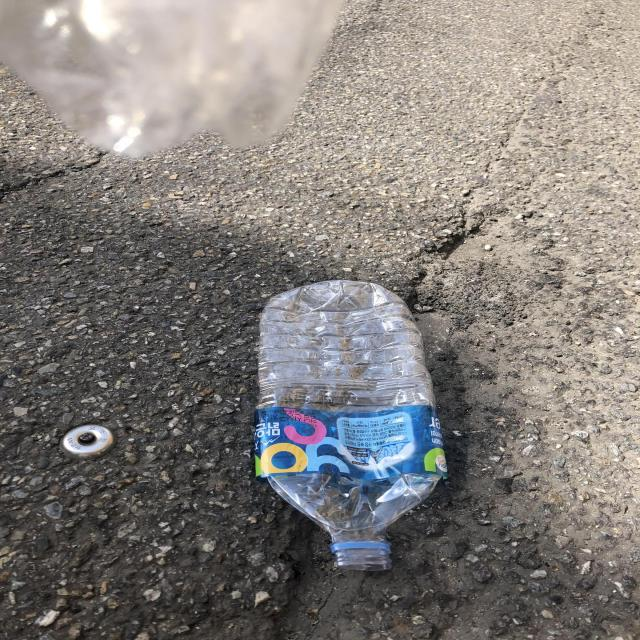plastic: (254, 280, 448, 572)
